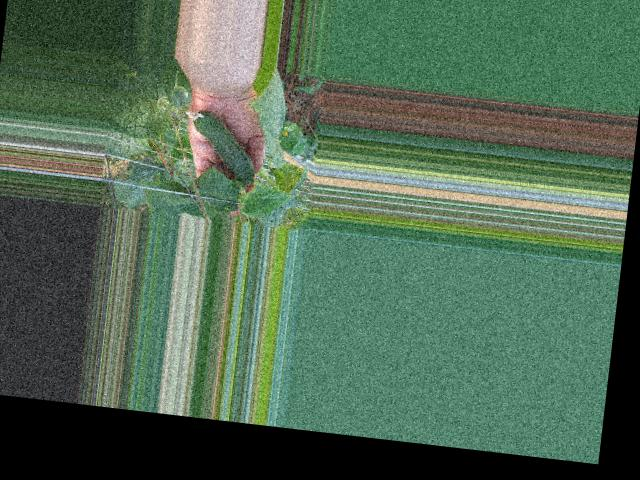cucumber: (177, 108, 260, 183)
